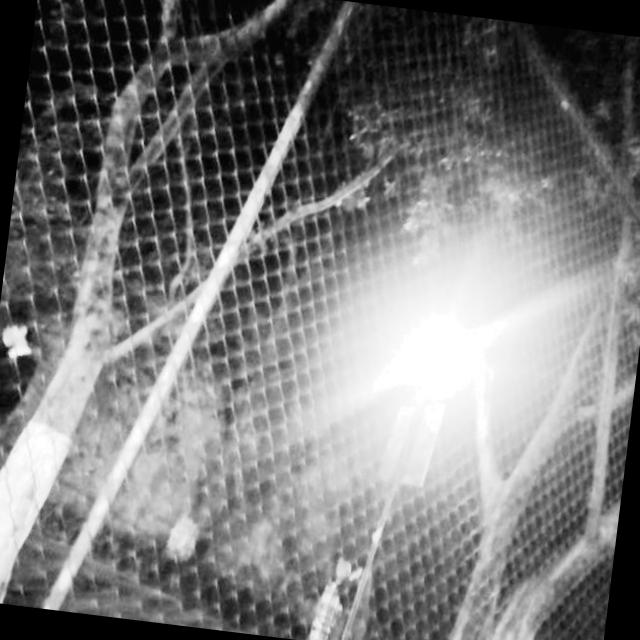Light: (341, 314, 468, 640)
Tree: (0, 0, 291, 629), (435, 198, 640, 640)
